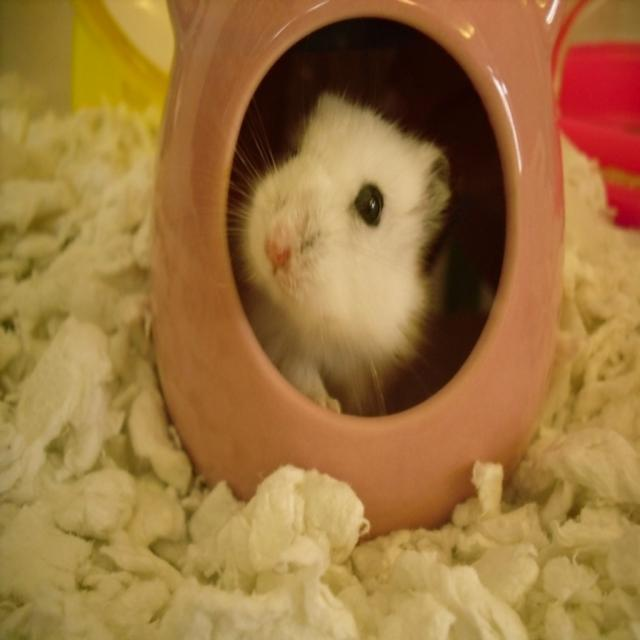rat: (161, 33, 458, 420)
